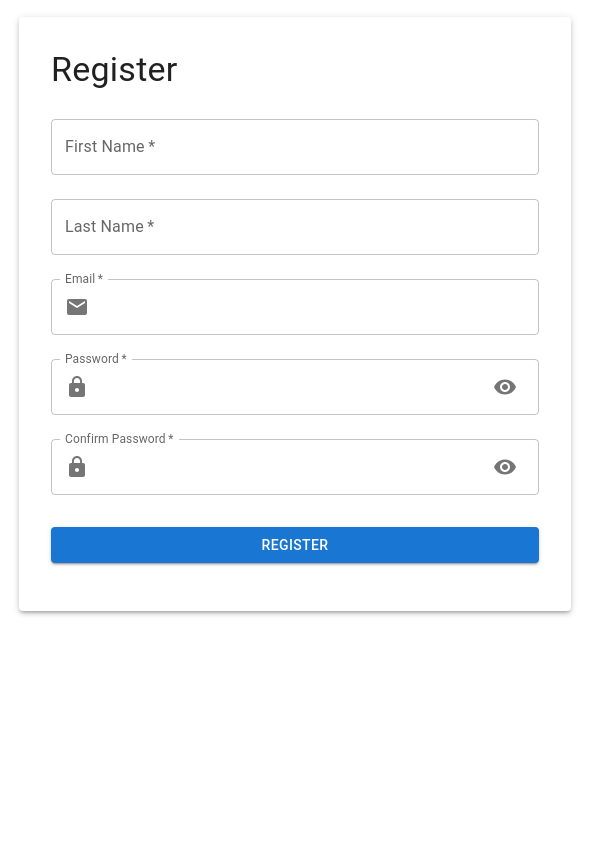
Test: Register Page › prevents submission with invalid password
Fill form with weak password
Type "John" into the field with id "firstName". click: coordinates (295, 147)
box: [51, 119, 539, 175]
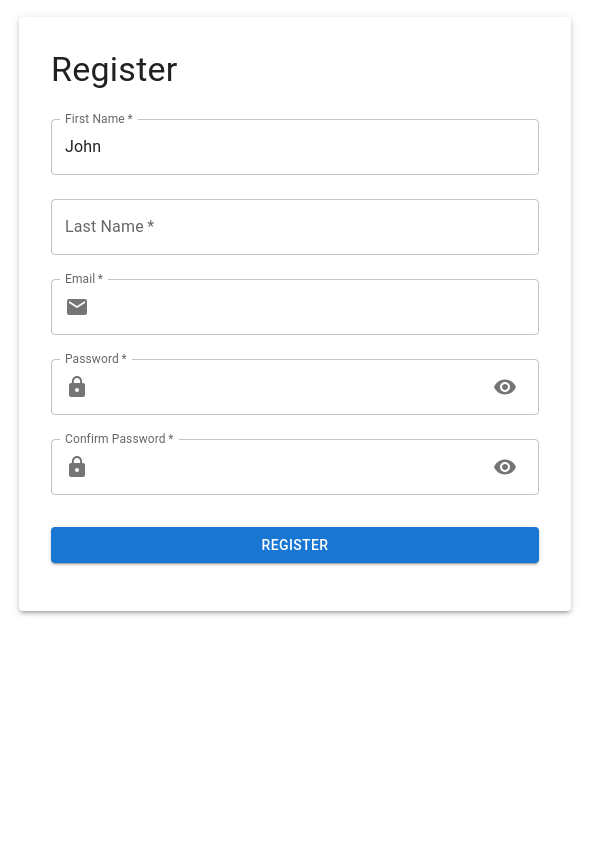
Type "Doe" into the field with id "lastName". click: coordinates (295, 227)
box: [51, 199, 539, 255]
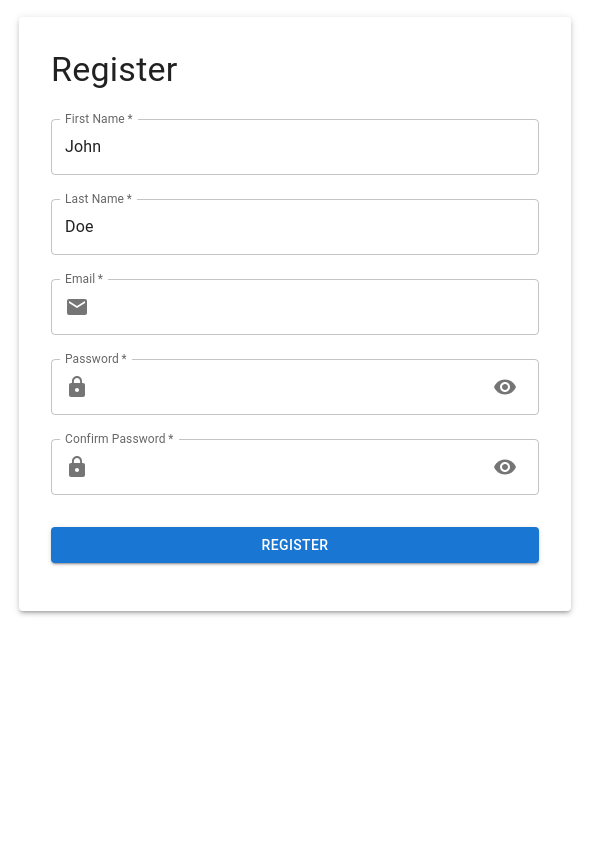
Type "john@example.com" into the field with id "email". click: coordinates (318, 307)
box: [97, 279, 539, 335]
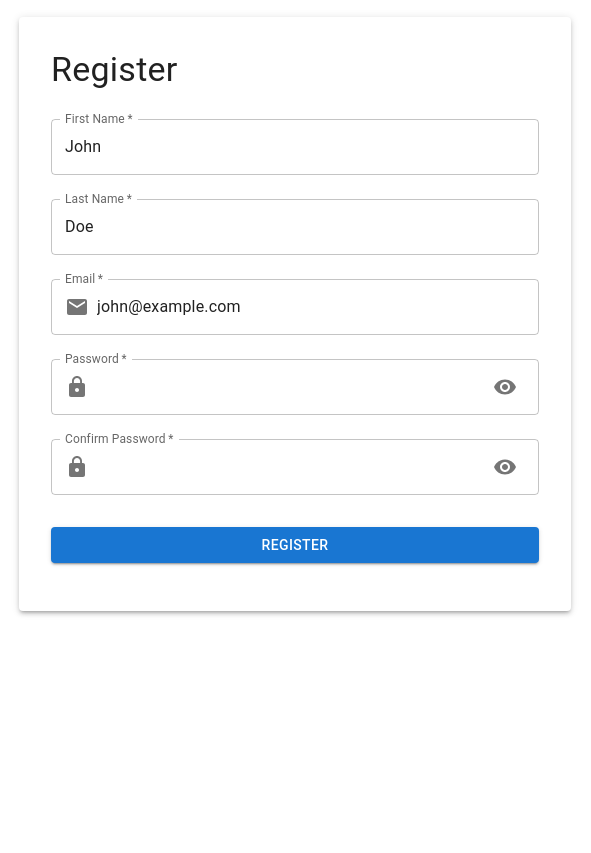
Type "weak" into the password field labelled "Password *". click: coordinates (287, 387)
box: [97, 359, 477, 415]
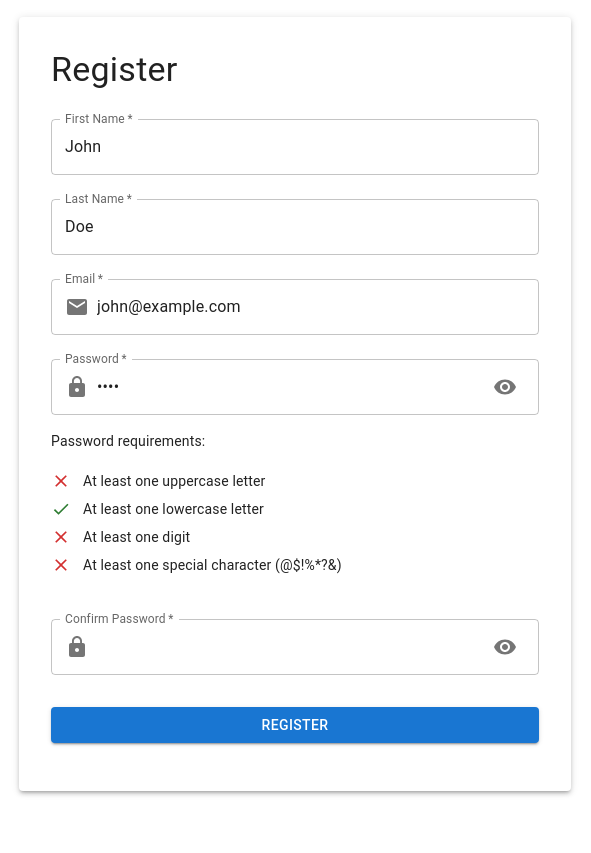
Type "weak" into the password field with id "confirmPassword". click: coordinates (287, 647)
box: [97, 619, 477, 675]
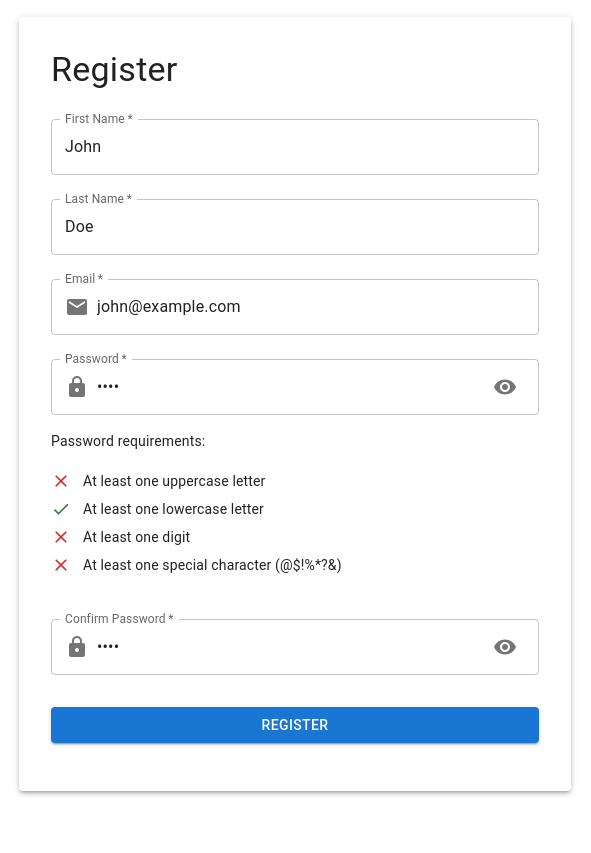
Click the button "Register". click: coordinates (295, 725)
box: [51, 707, 539, 744]
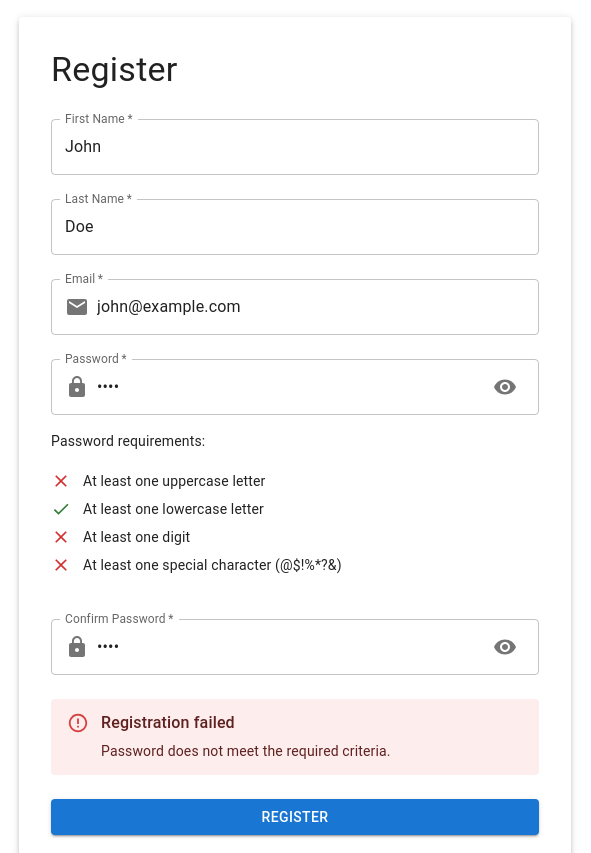
expect the text "Password does not meet the required criteria." is shown: met, box [101, 742, 391, 758]
